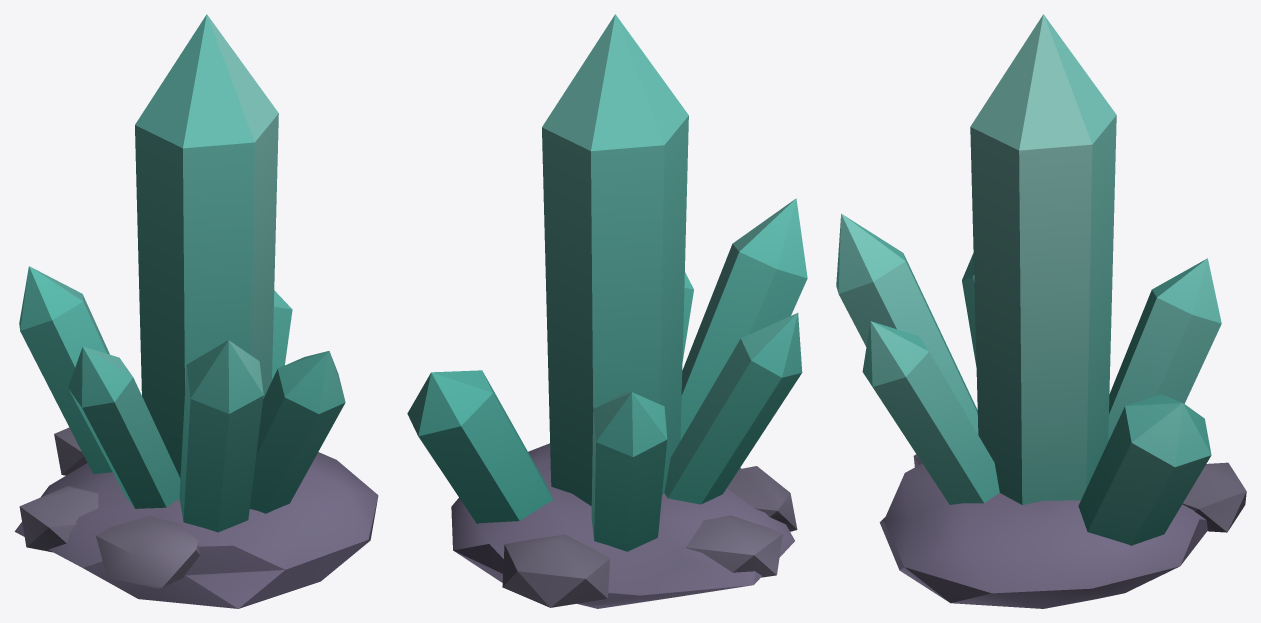
File: crystal_teal.glb
The picture shows the model from 3 angles, left to right: view 1: azimuth 30°, elevation 25°; view 2: azimuth 150°, elevation 25°; view 3: azimuth 270°, elevation 25°; orthographic projection. The views are drawn at different scales.
Visible parts, largest first — view 1: crystal_teal_glow, crystal_teal; view 2: crystal_teal_glow, crystal_teal; view 3: crystal_teal_glow, crystal_teal.
Boxes of the visible parts, x1,y1,x2,y2 form: crystal_teal_glow: (19,14,345,532); crystal_teal: (14,427,378,608); crystal_teal_glow: (407,14,807,551); crystal_teal: (451,443,797,608); crystal_teal_glow: (836,14,1221,545); crystal_teal: (879,454,1246,608).
Bounding box in the file's own units: 1.59 × 2.62 × 1.76.
